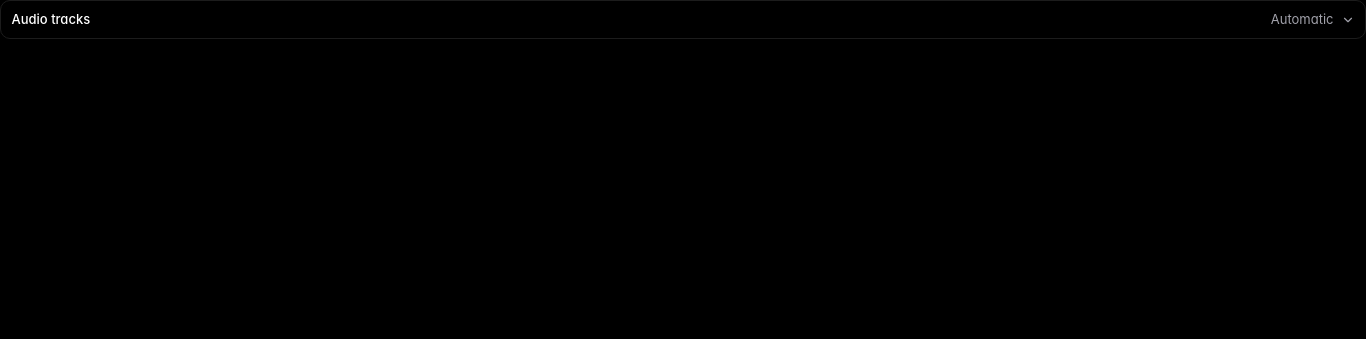
download customization › filters selectable languages before analysis and preserves tracks across searches
Later steps or results of the test are not shown.
Click the text "Audio tracks": [51, 20] box [12,10,90,29]
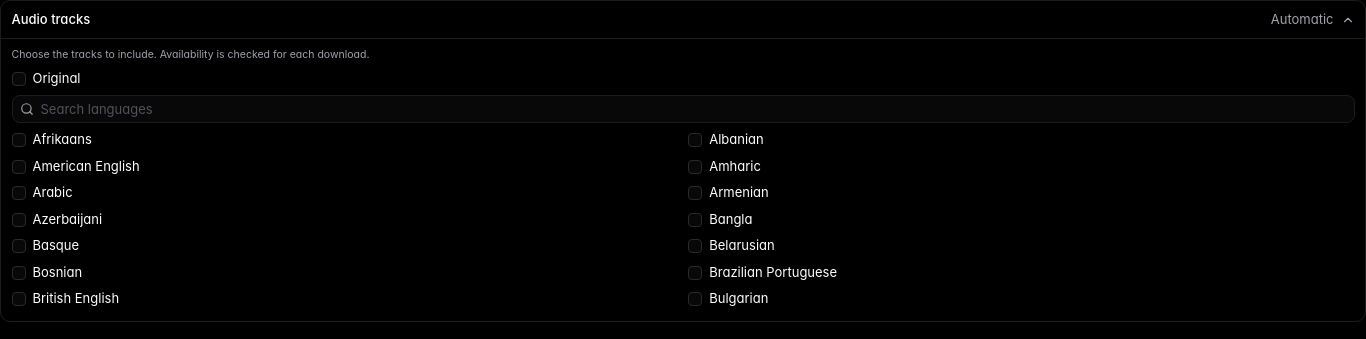
In the search field labelled "Search languages": [683, 109] box [12,95,1354,123], type "ITAL"
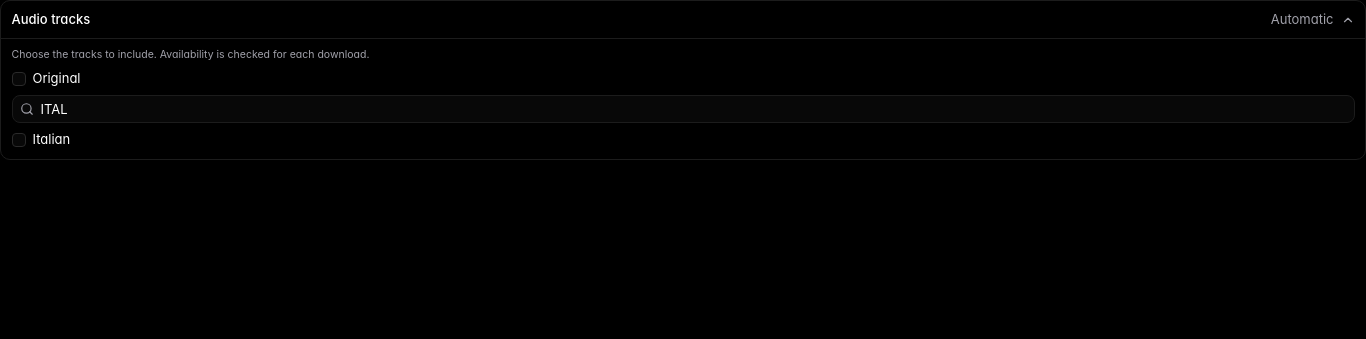
Expected: the checkbox labelled "French" is not shown
Click the checkbox named "Italian" next to "Italian": [18, 140] box [12,133,26,147]
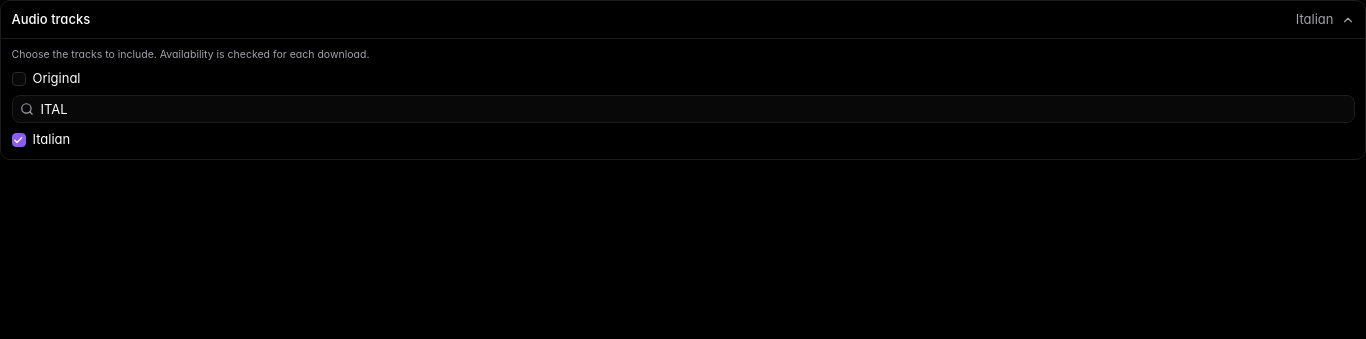
Replace the text in the search field named "Search languages" with "no such language": [683, 109] box [12,95,1354,123]
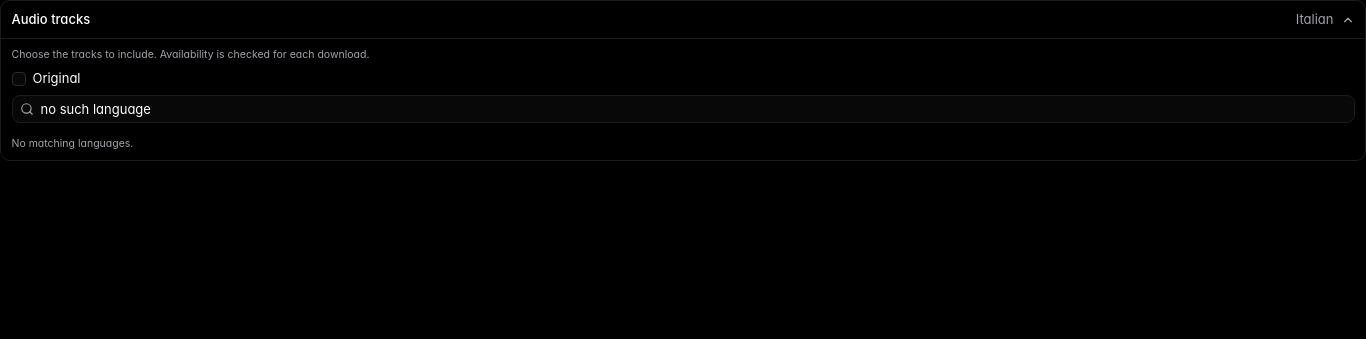
Result: the message reads "No matching languages." at [12,137,133,150]
